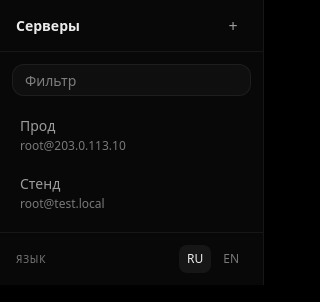
Test: поиск › ничего не найдено это тоже сообщение
In the field labelled "Фильтр": (132, 80) [12,64,251,96], type "марс"
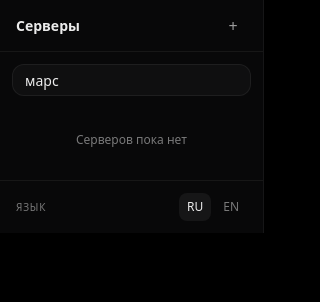
Result: the list item "Серверов пока нет" is shown at [76,131,187,148]
